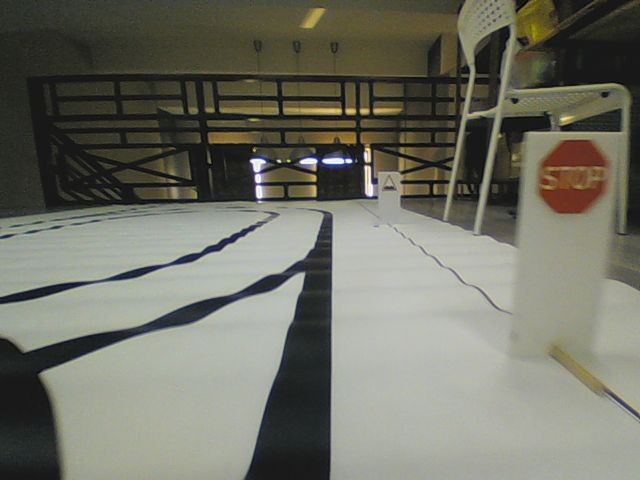Nerov: (381, 175, 398, 192)
Stop: (536, 137, 609, 217)
